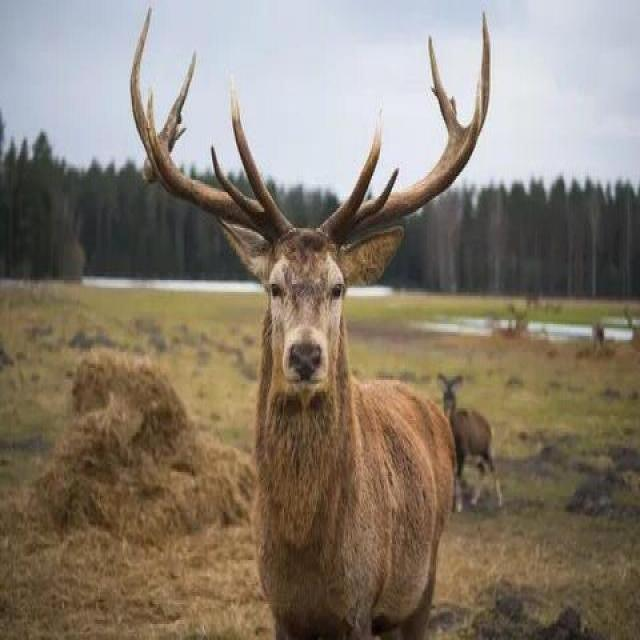deer: (135, 8, 494, 601)
